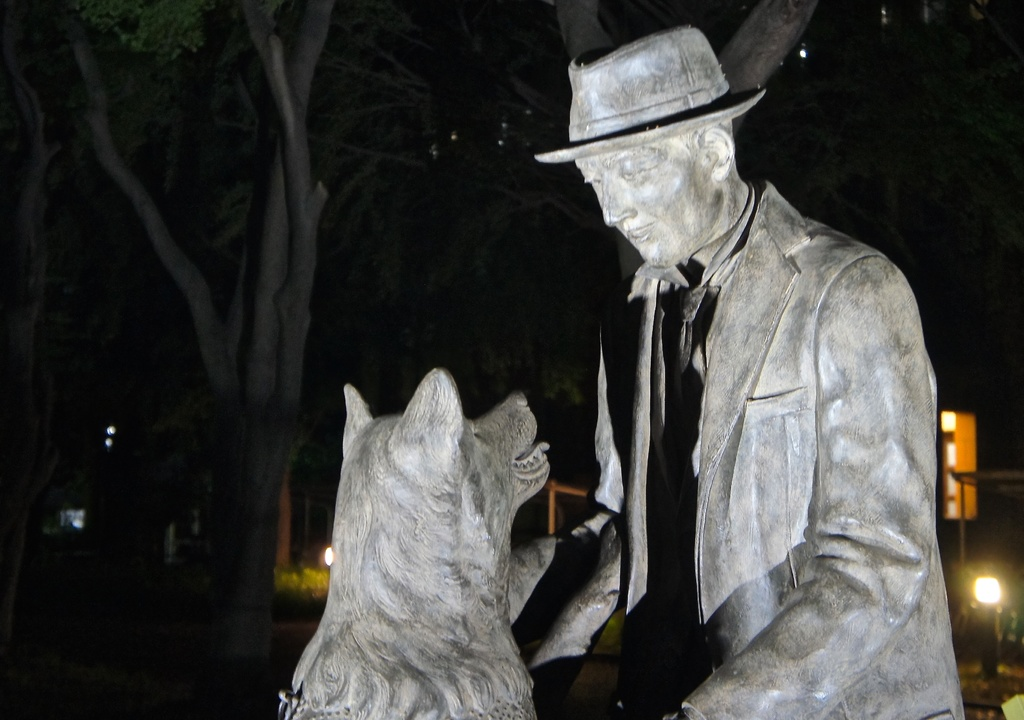Animal: (276, 364, 628, 719)
